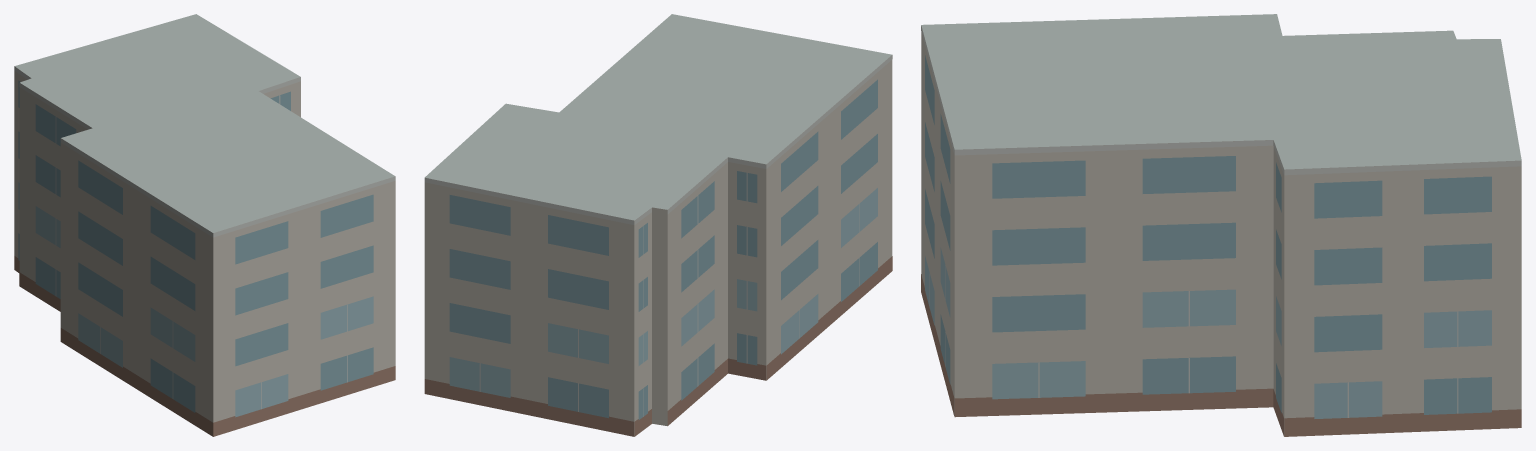
Rendered from survey-upis-32649141.glb.
3 views of the same model, side by side, from view 1: azimuth 30°, elevation 25°; view 2: azimuth 150°, elevation 25°; view 3: azimuth 270°, elevation 25° (orthographic). The views are drawn at different scales.
Visible parts, largest first — view 1: survey-upis-32649141.tmp; view 2: survey-upis-32649141.tmp; view 3: survey-upis-32649141.tmp.
Part boxes in pixels (box(x1,y1,x2,y2)): survey-upis-32649141.tmp: box(14, 14, 395, 436); survey-upis-32649141.tmp: box(424, 14, 892, 436); survey-upis-32649141.tmp: box(921, 14, 1521, 436).
Size of the model in its own units: 14.1 by 11.3 by 23.01.
